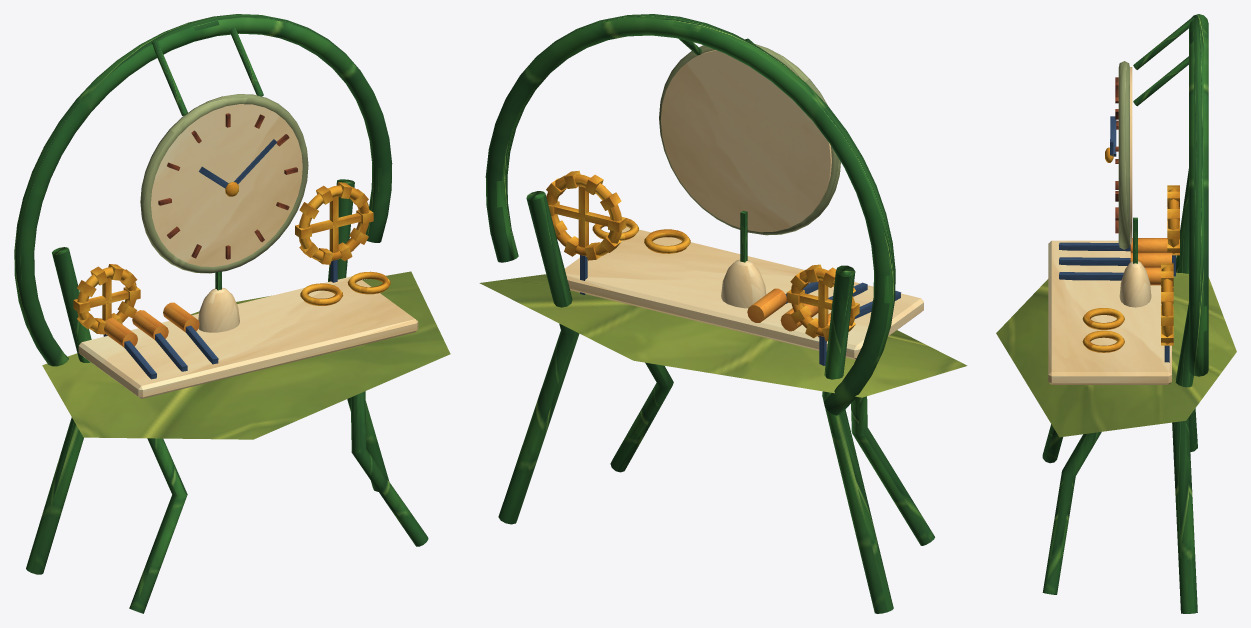
The model's file is revised-09-06.glb.
3 renders of one model, left to right at view 1: azimuth 30°, elevation 25°; view 2: azimuth 150°, elevation 25°; view 3: azimuth 270°, elevation 25°, orthographic. The views are drawn at different scales.
Visible parts, largest first — view 1: clock_station; view 2: clock_station; view 3: clock_station.
Boxes of the visible parts, x1=… form: clock_station: x1=14, y1=14, x2=450, y2=613; clock_station: x1=479, y1=14, x2=967, y2=613; clock_station: x1=996, y1=14, x2=1236, y2=613.
Bounding box in the file's own units: 1.39 × 1.73 × 0.76.
2 materials, 2 textured.
